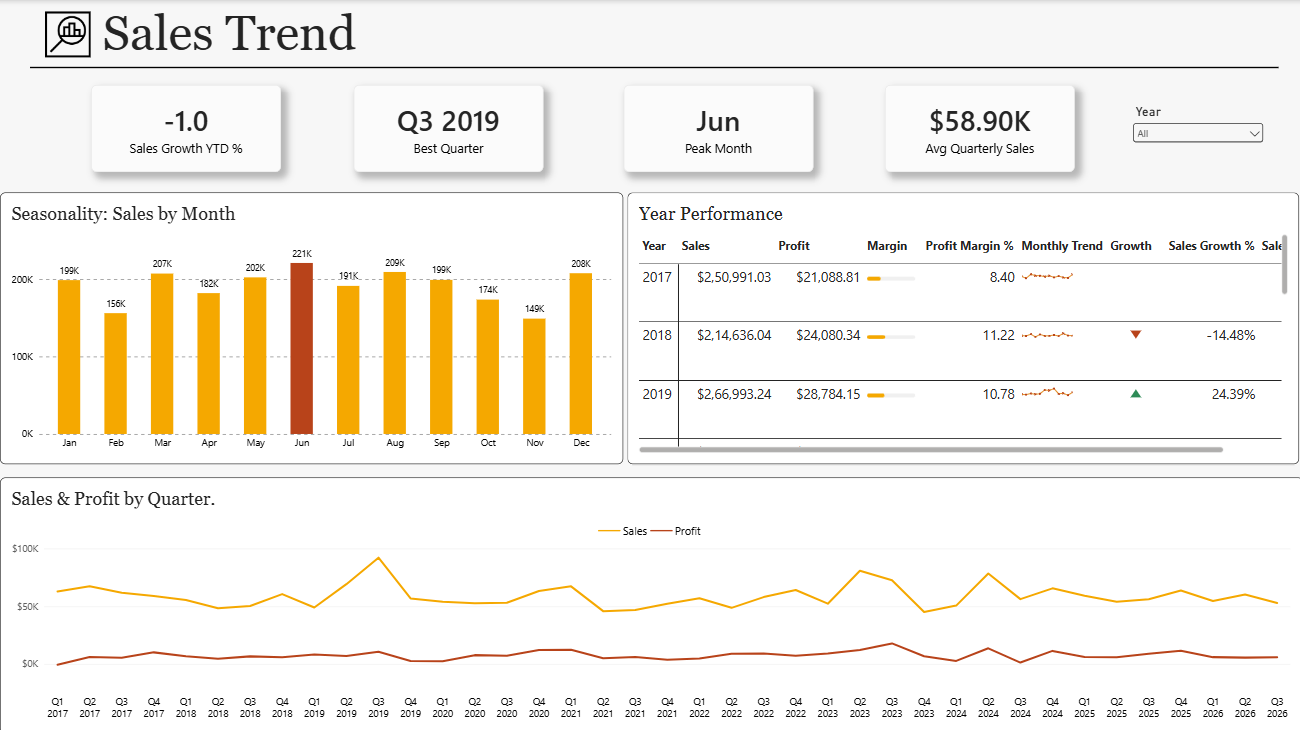

This screenshot's page, from the dashboard's own definition file:
{"tool":"powerbi","page":{"name":"Trends","canvas":[1920,1080],"ordinal":1},"visuals":[{"type":"shape","box":[44.2,84.7,1838.7,29.4],"z":0},{"type":"textbox","box":[150.9,7.4,765.6,88.3],"z":1000},{"type":"image","box":[66.3,16.6,67.2,68.2],"z":2000},{"type":"card","fields":{"Values":["superstore_orders.Sales Growth YTD %"]},"box":[134.2,125.5,279.2,127.7],"z":3000},{"type":"card","fields":{"Values":["superstore_orders.Best Quarter Label"]},"box":[521.6,125.5,279.2,127.7],"z":4000},{"type":"card","fields":{"Values":["superstore_orders.Peak Month Label"]},"box":[917.6,125.5,279.2,127.7],"z":5000},{"type":"card","fields":{"Values":["superstore_orders.Avg Quarterly Display"]},"box":[1302.8,125.5,279.2,127.7],"z":6000},{"type":"slicer","fields":{"Values":["Calendar.Year"]},"box":[1664.2,153.7,201.3,82.2],"z":7000},{"type":"lineChart","title":"Sales & Profit by Quarter.","fields":{"Category":["Calendar.Quarter Label"],"Y":["Sum(superstore_orders.sales)","Sum(superstore_orders.profit)"]},"box":[0,703.3,1919.6,376.6],"z":8000},{"type":"clusteredColumnChart","title":"Seasonality: Sales by Month","fields":{"Category":["Calendar.Month name"],"Y":["superstore_orders.Total Sales"]},"box":[0,283.5,917.6,400.4],"z":9000},{"type":"pivotTable","title":"Year Performance","fields":{"Rows":["Calendar.Year"],"Values":["Sum(superstore_orders.sales)","Sum(superstore_orders.profit)","superstore_orders.Margin Bar SVG","superstore_orders.Profit_Margin %","superstore_orders.Sales Sparkline SVG","superstore_orders.Growth Icon SVG","superstore_orders.Sales Growth %","superstore_orders.Sales Share %"]},"box":[924.1,283.5,989,400.4],"z":10000}]}

Visuals, with their boxes in screenshot pixels (x1, y1, x2, y2), scaled from the page's 1920x1080 canvas onto the 1300x730 screenshot:
shape: <region>30, 57, 1275, 77</region>
textbox: <region>102, 5, 621, 65</region>
image: <region>45, 11, 90, 57</region>
card - superstore_orders.Sales Growth YTD %: <region>91, 85, 280, 171</region>
card - superstore_orders.Best Quarter Label: <region>353, 85, 542, 171</region>
card - superstore_orders.Peak Month Label: <region>621, 85, 810, 171</region>
card - superstore_orders.Avg Quarterly Display: <region>882, 85, 1071, 171</region>
slicer - Calendar.Year: <region>1127, 104, 1263, 159</region>
"Sales & Profit by Quarter." lineChart: <region>0, 475, 1299, 729</region>
"Seasonality: Sales by Month" clusteredColumnChart: <region>0, 192, 621, 462</region>
"Year Performance" pivotTable: <region>626, 192, 1295, 462</region>
